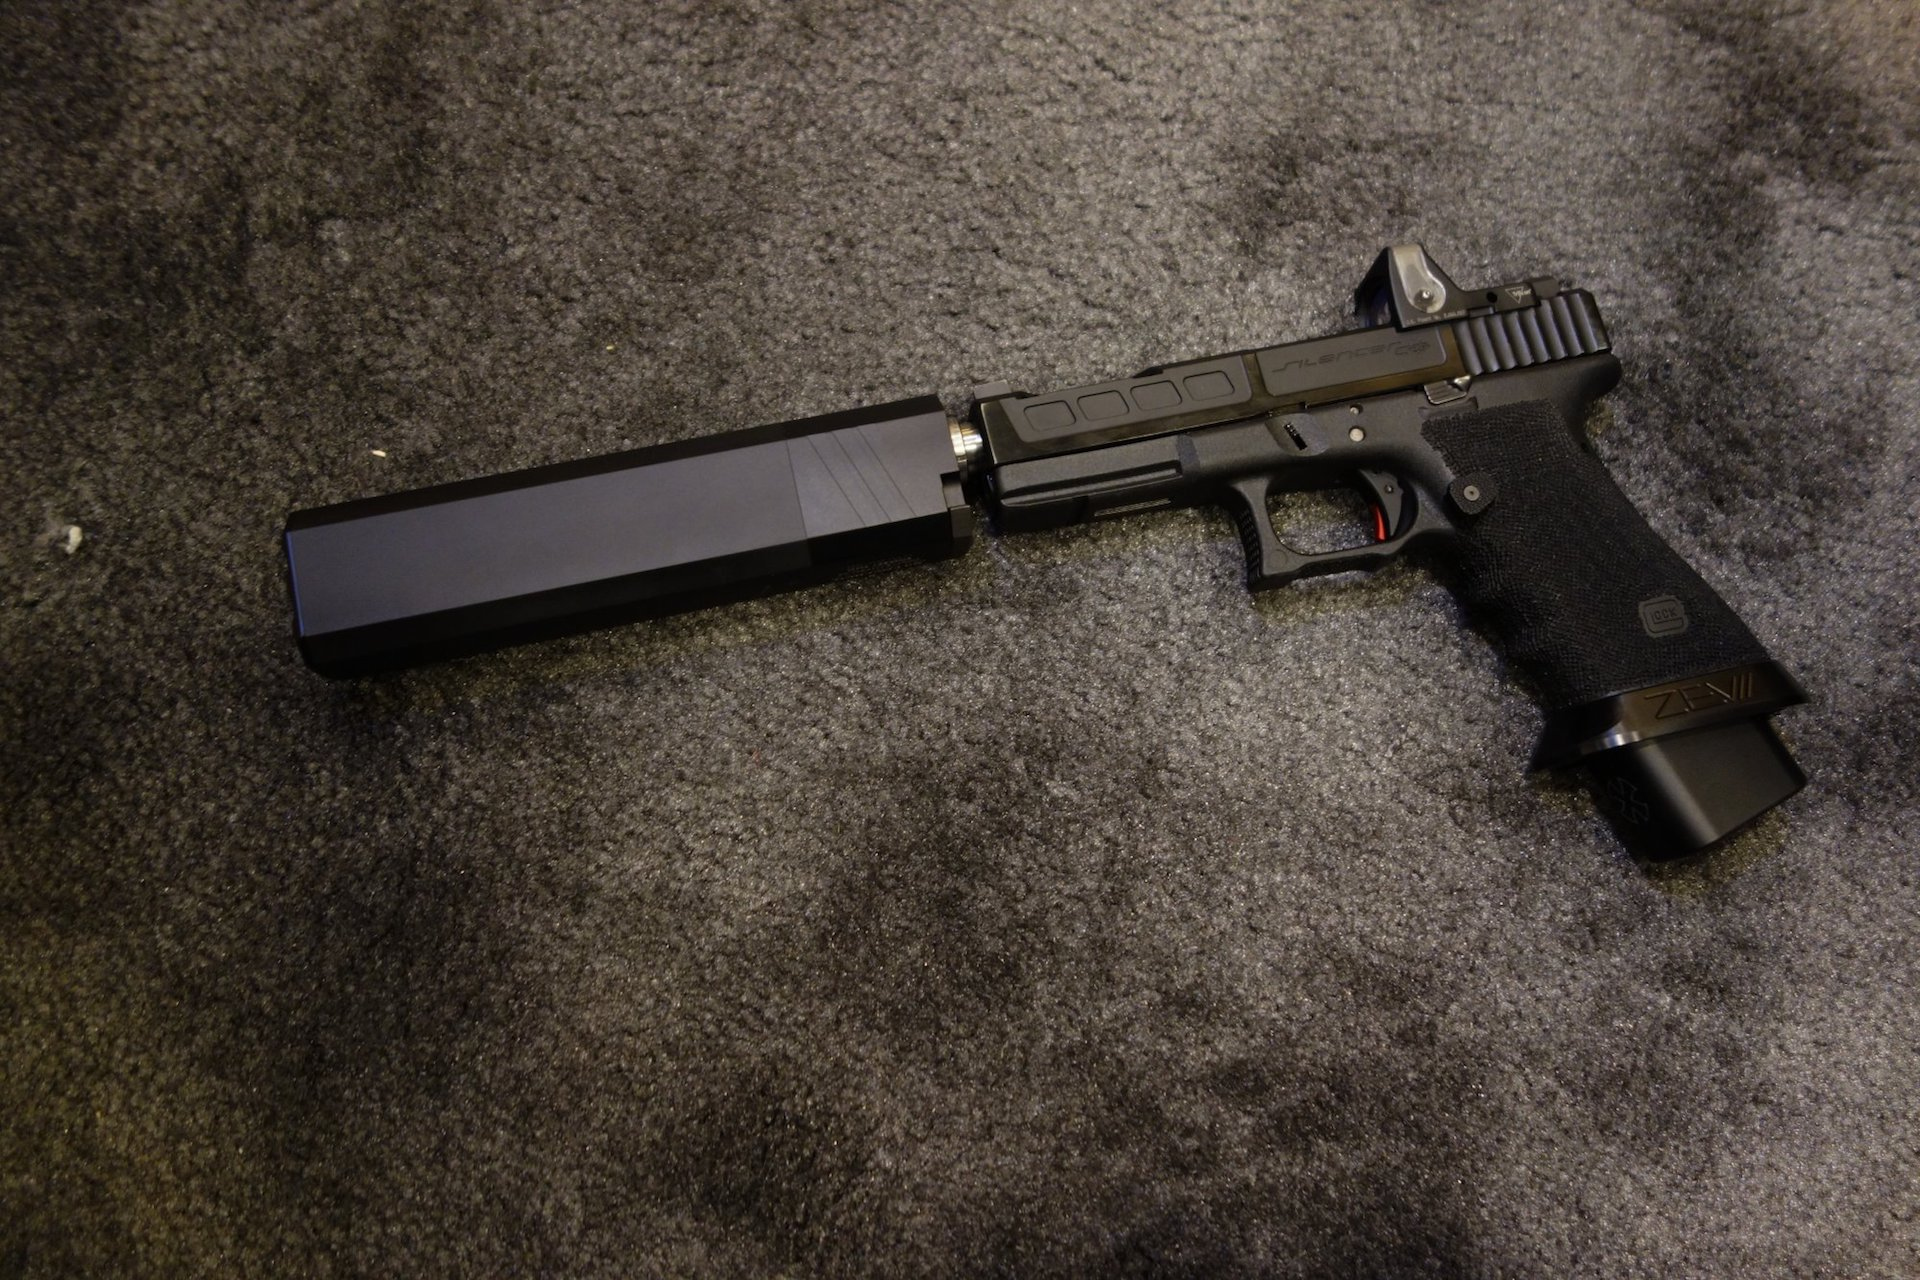pistol: (974, 229, 1806, 874)
